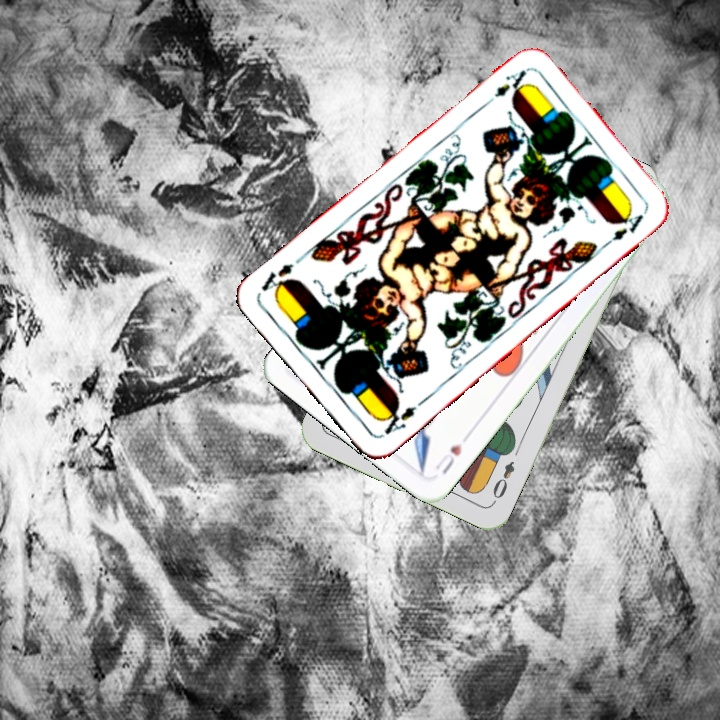EA: (480, 65, 529, 109), (377, 402, 419, 438)
EO: (488, 457, 517, 506)
HU: (431, 439, 465, 477)
